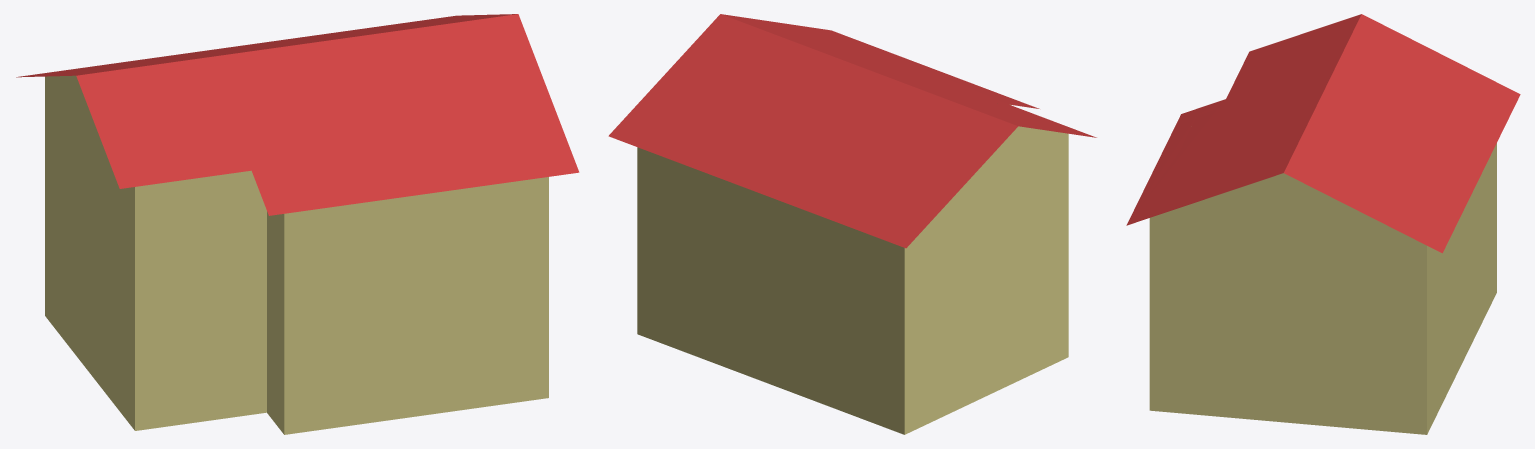
3 renders of one model, left to right at view 1: azimuth 30°, elevation 25°; view 2: azimuth 150°, elevation 25°; view 3: azimuth 270°, elevation 25°, orthographic. The views are drawn at different scales.
Bounding box in the file's own units: 16.32 × 14.87 × 10.73.
